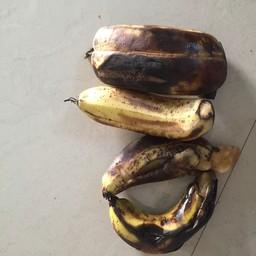Bad_banana: (89, 13, 227, 95), (102, 175, 220, 253), (72, 83, 213, 142), (98, 137, 243, 192)
